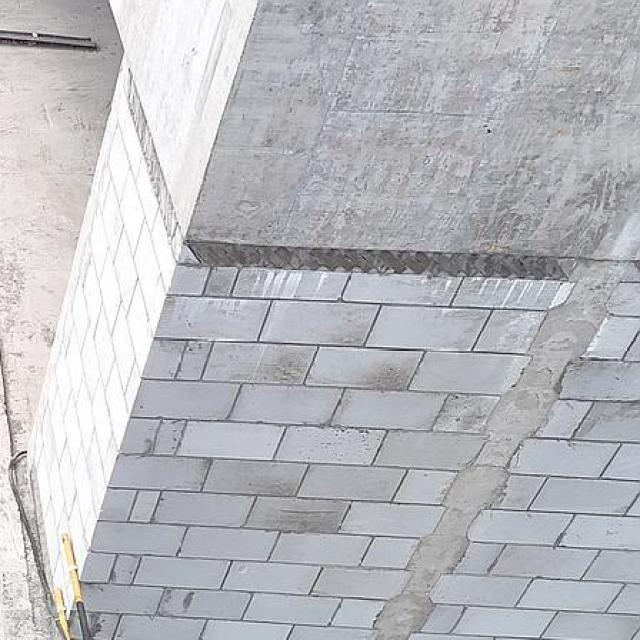edge_guardrail: (52, 533, 95, 640)
